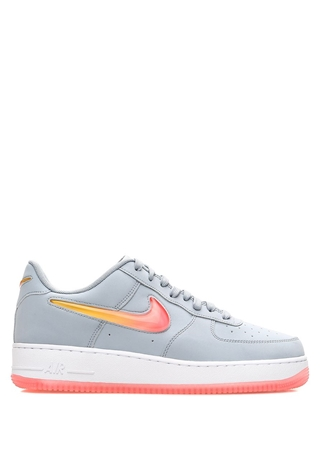nike: (45, 290, 171, 332)
